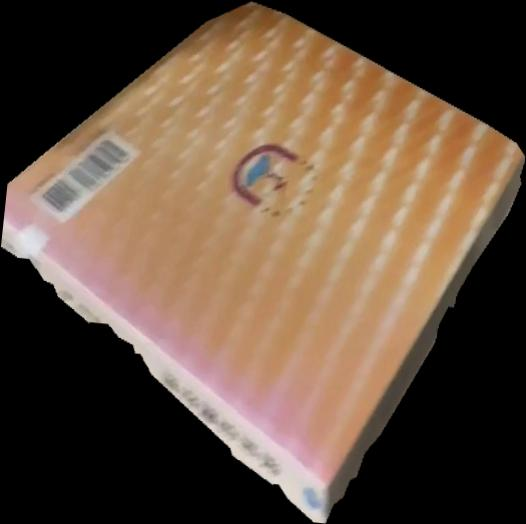flat: (1, 1, 526, 524)
